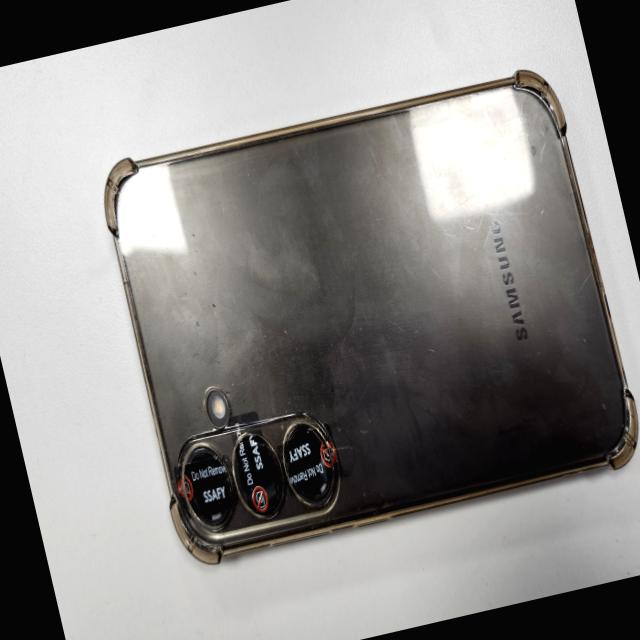phone: (86, 50, 640, 576)
sticker: (233, 418, 280, 516), (171, 448, 238, 514), (276, 424, 340, 492)
